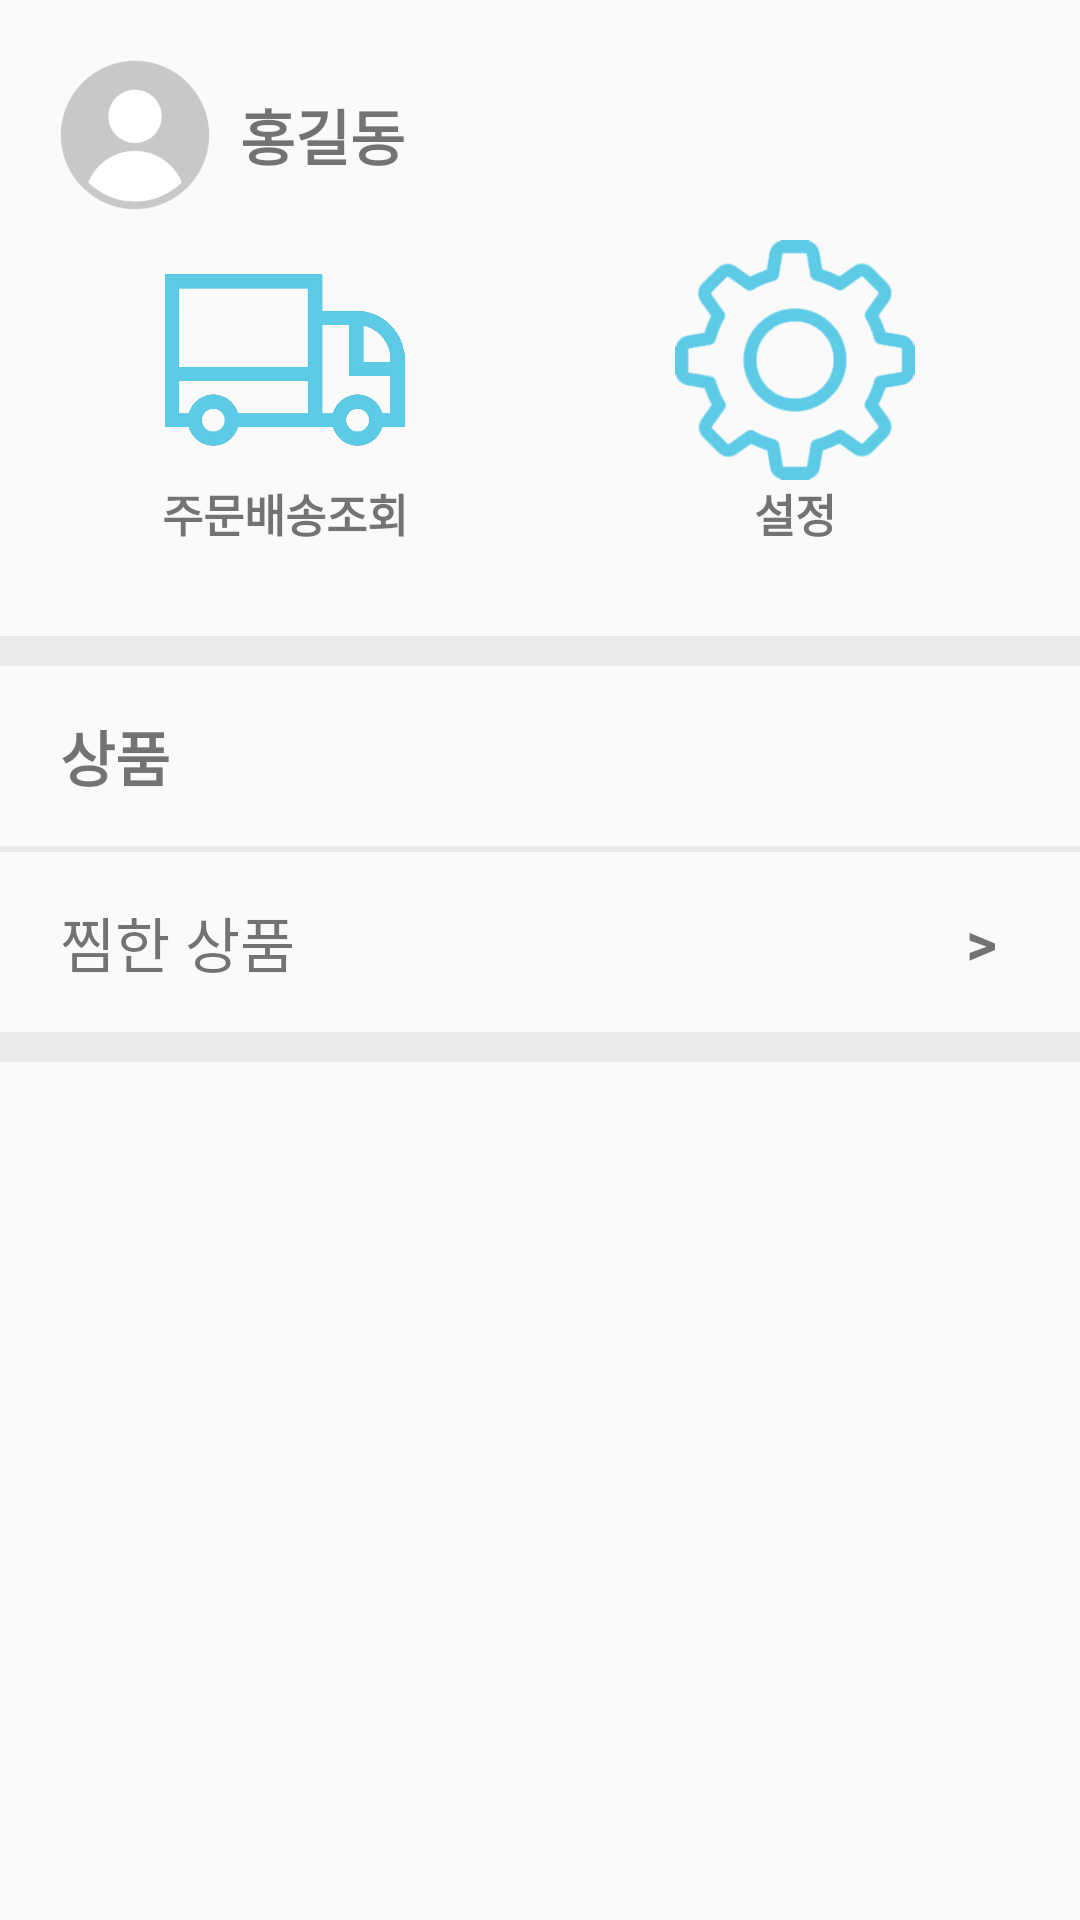

Icons on this 1080 × 1920 Android screen, each with the point to tap as [x,y]:
user: [135,135]
